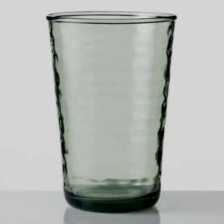glass: (29, 5, 183, 216)
